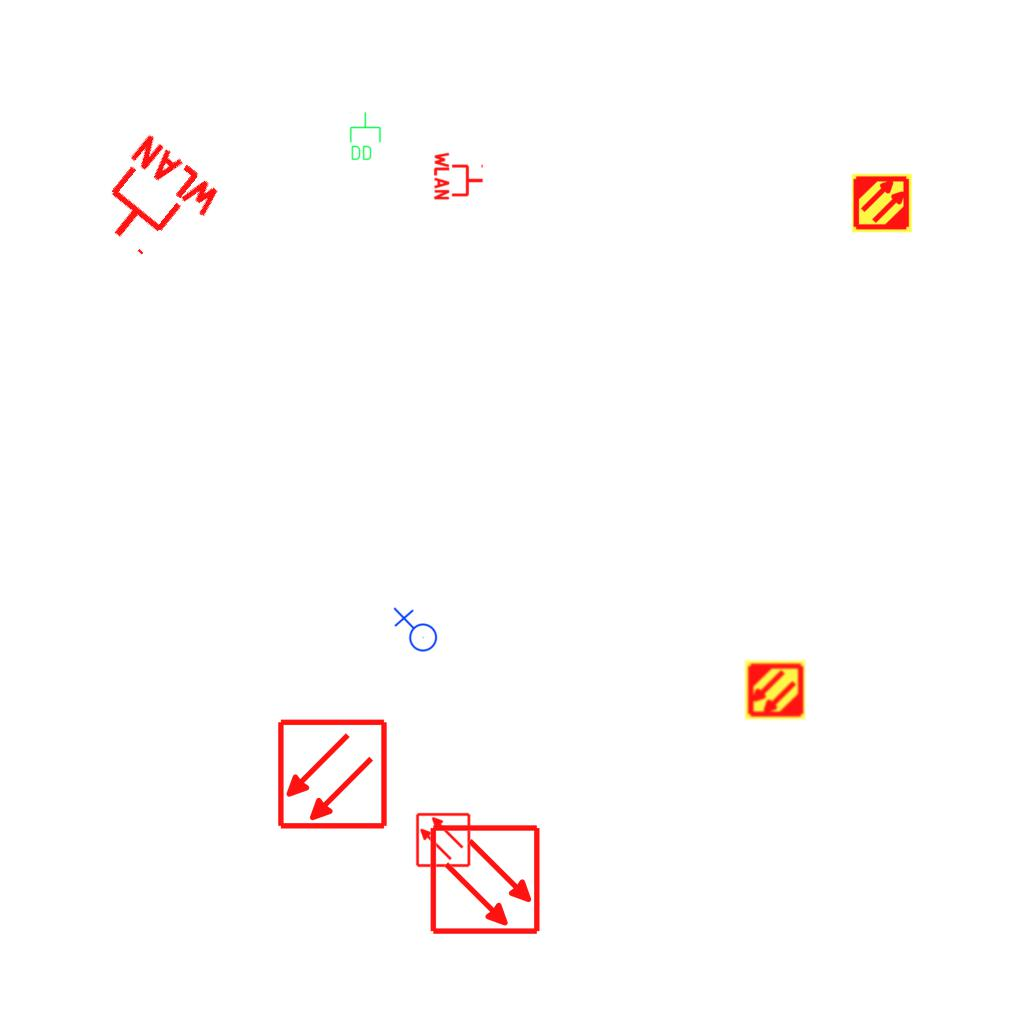ASR_Ansaugrauchmelder: (851, 172, 913, 234), (744, 659, 806, 721)
Datenanschluss_zweifach: (348, 111, 382, 162)
Elektroanschluss_allgemein_230V_Geraeteanschlussdose_230V: (391, 607, 438, 656)
RMO_Rauchmelder_optischer: (276, 718, 389, 831), (429, 823, 542, 936), (415, 812, 471, 868)
WLAN: (81, 129, 228, 277), (433, 150, 485, 202)
